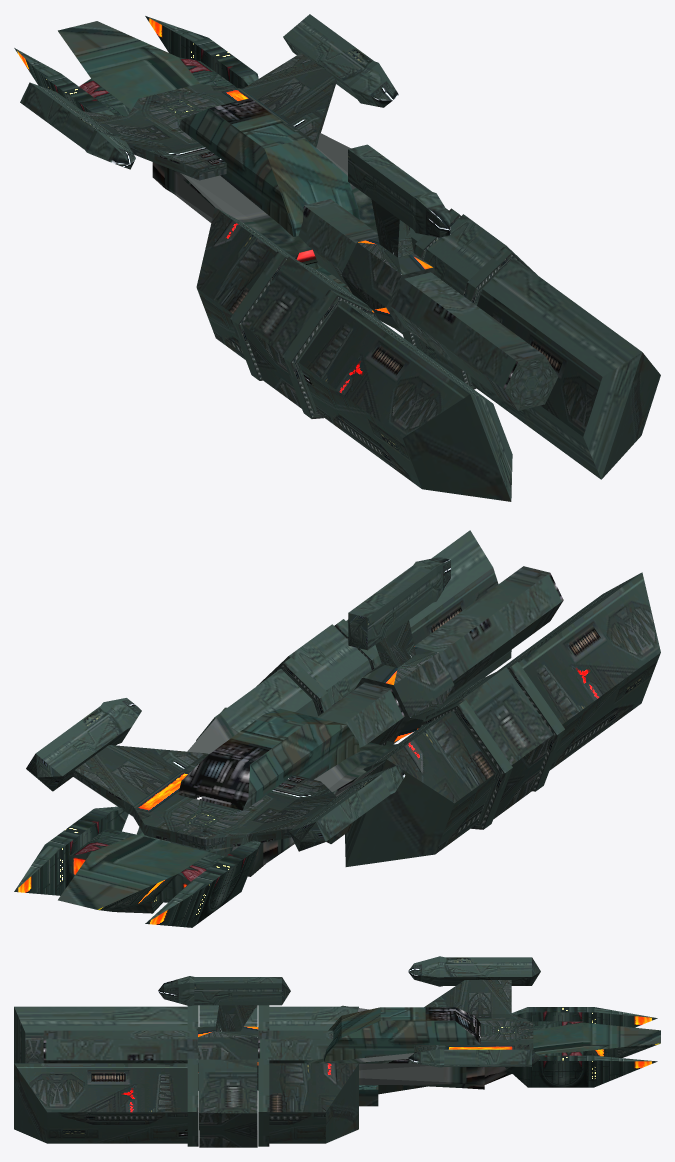
Rendered from Kling_TekEt.fbx.
The picture shows the model from 3 angles, top to bottom: view 1: azimuth 30°, elevation 25°; view 2: azimuth 150°, elevation 25°; view 3: azimuth 270°, elevation 25°; orthographic projection. The views are drawn at different scales.
Parts seen in each view (by area): view 1: Kling_TekEt; view 2: Kling_TekEt; view 3: Kling_TekEt.
Boxes of the visible parts, x1,y1,x2,y2 form: Kling_TekEt: (14,14,660,501); Kling_TekEt: (14,530,660,927); Kling_TekEt: (14,956,660,1147).
Size of the model in its own units: 173 by 112 by 474.
Materials: 1 (1 with a texture image).
